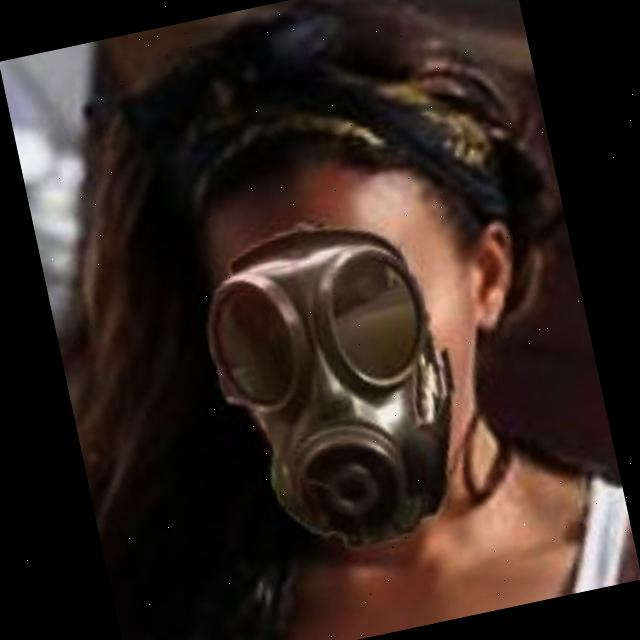suspicion: (134, 73, 538, 562)
